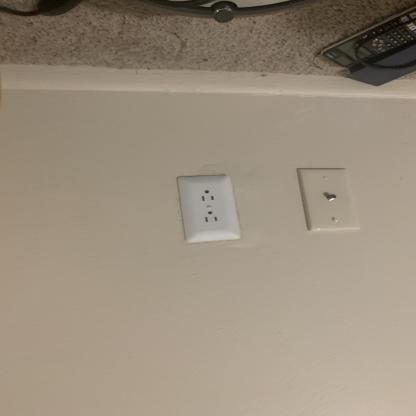OUTLET: (176, 176, 236, 244)
